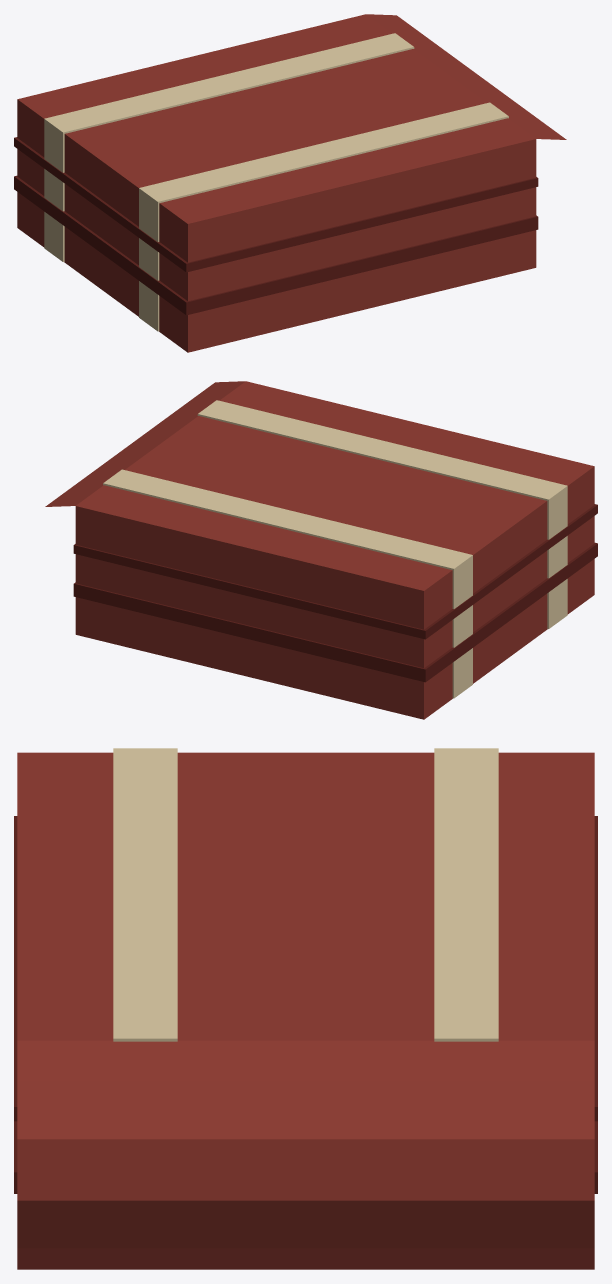
Rendered from koc-fplbm390.glb.
3 views of the same model, one above another, from view 1: azimuth 30°, elevation 25°; view 2: azimuth 150°, elevation 25°; view 3: azimuth 270°, elevation 25° (orthographic). The views are drawn at different scales.
Bounding box in the file's own units: 0.503 × 0.152 × 0.364.
